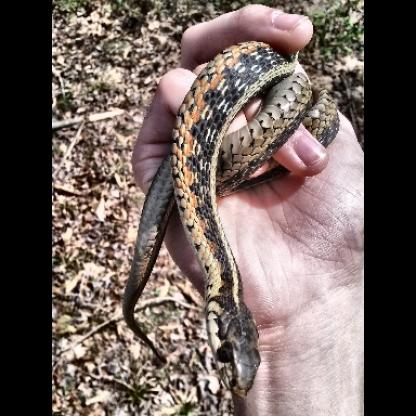Snake: (172, 25, 344, 216), (169, 217, 268, 403)
